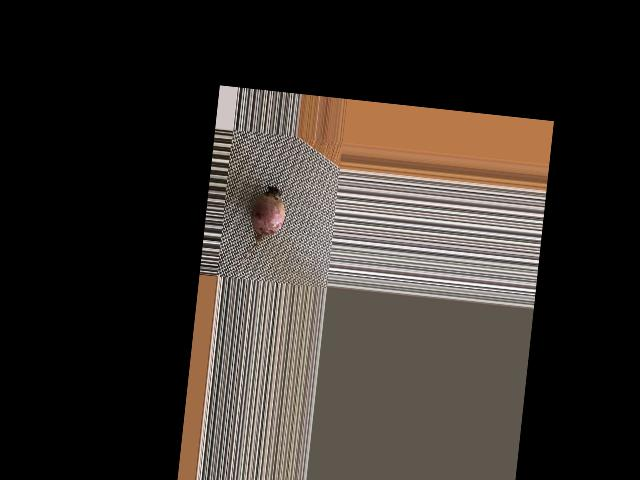beet: (231, 180, 287, 272)
